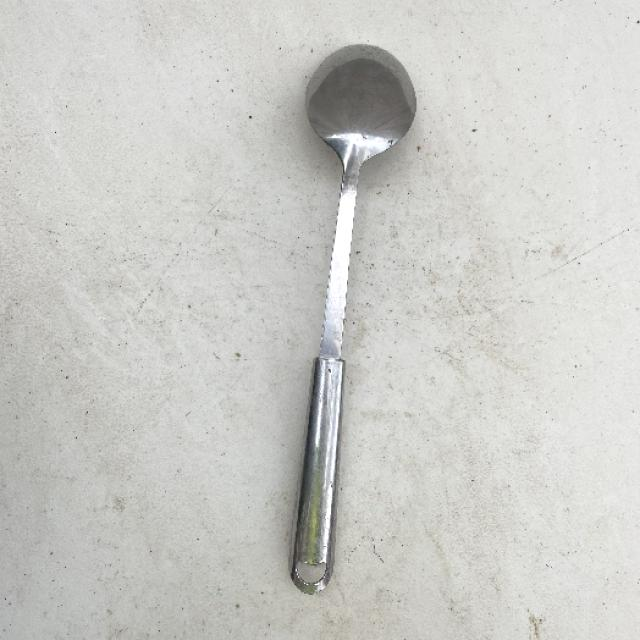inorganic: (286, 32, 414, 613)
